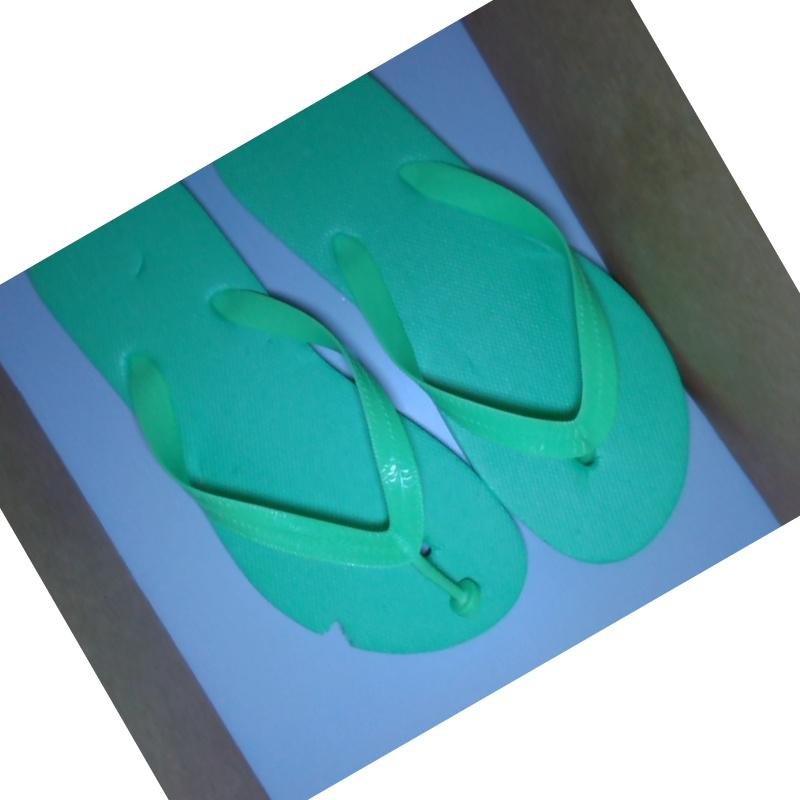chipped: (302, 599, 365, 661)
detached: (441, 563, 489, 628)
